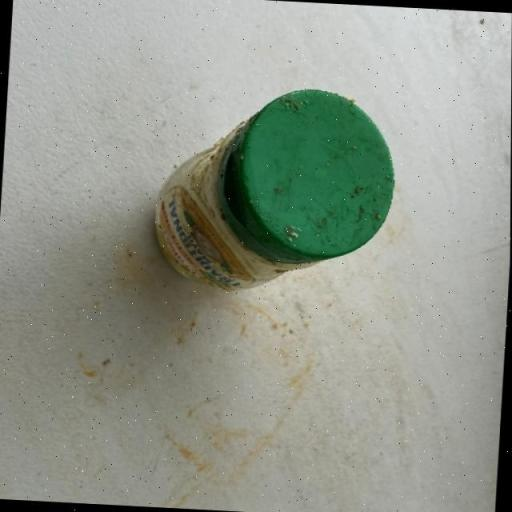plastic: (150, 79, 400, 298)
